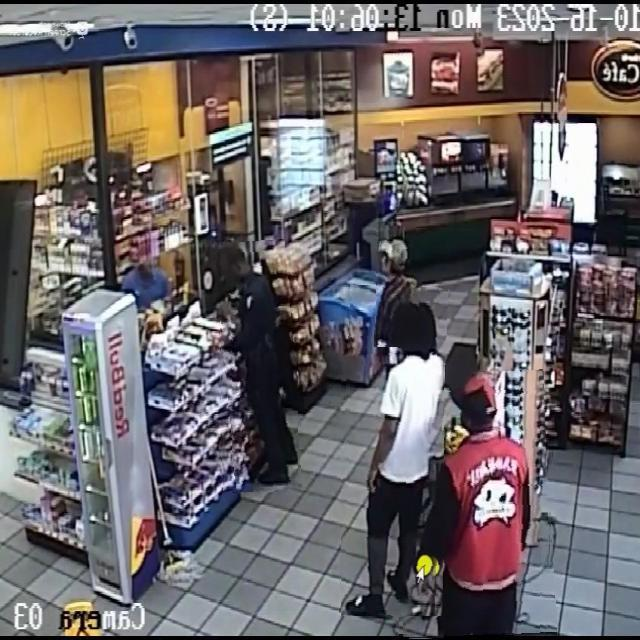Normal: (399, 371, 554, 640), (341, 285, 445, 616), (219, 240, 298, 492), (376, 226, 425, 347)
